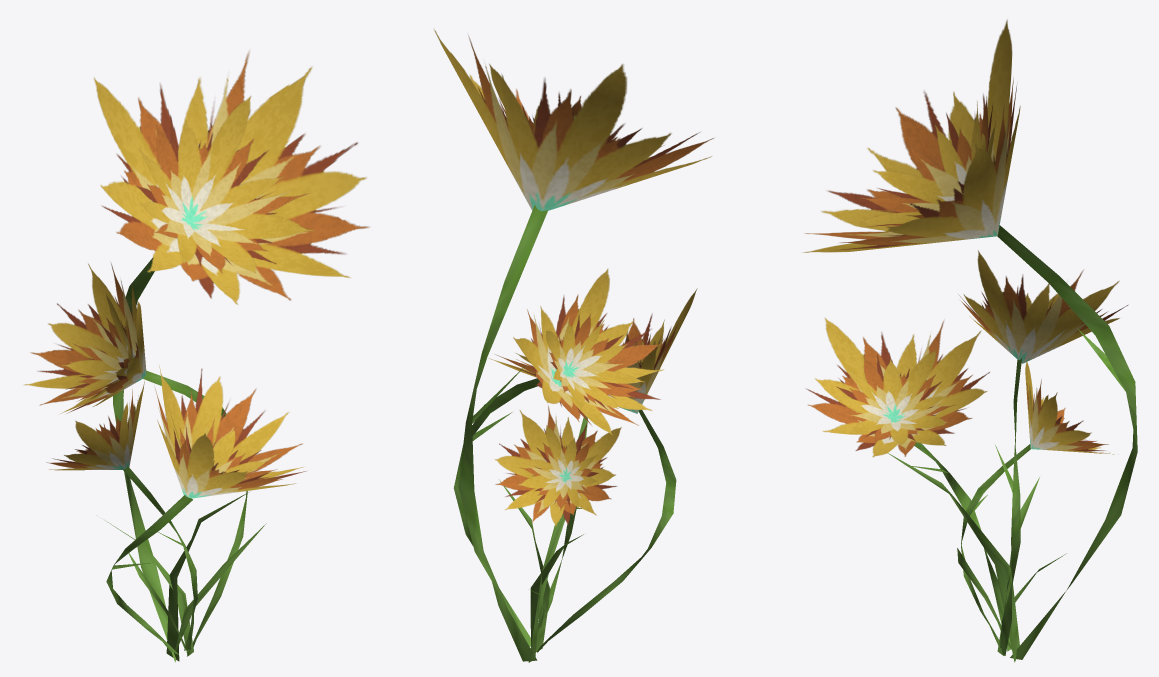
File: Plant_3.glb
3 renders of one model, left to right at view 1: azimuth 30°, elevation 25°; view 2: azimuth 150°, elevation 25°; view 3: azimuth 270°, elevation 25°, orthographic. The views are drawn at different scales.
Parts seen in each view (by area): view 1: Plant_3; view 2: Plant_3; view 3: Plant_3.
Boxes of the visible parts, x1,y1,x2,y2 form: Plant_3: (24,51,369,662); Plant_3: (434,29,713,662); Plant_3: (802,20,1137,662).
Size of the model in its own units: 0.7578 by 1.56 by 0.8296.
Materials: 1 (1 with a texture image).
